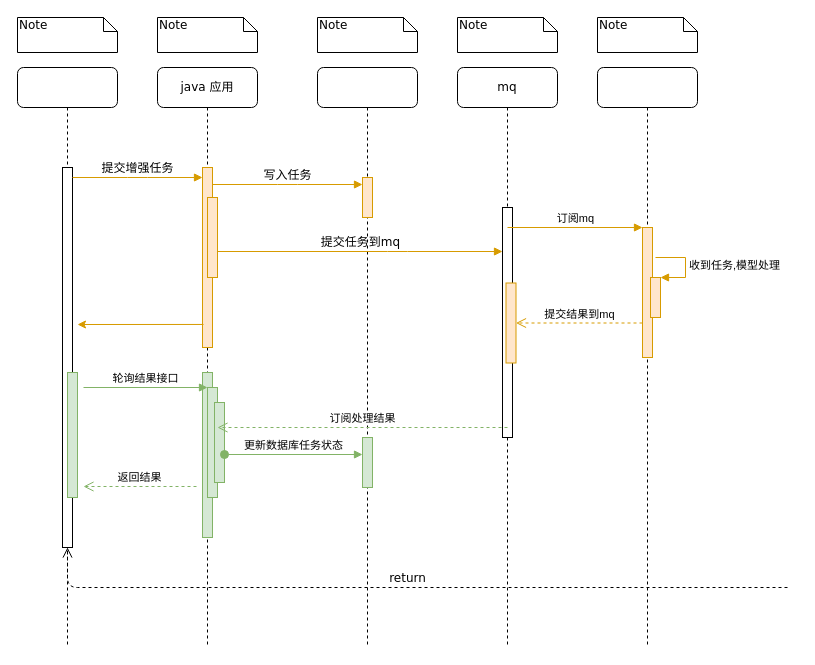
The diagram is 815 pixels wide and 665 high, and some of its shapes have lost their labels. Each missing label, with the box of its shape:
app: (16, 66, 118, 648)
mysql: (316, 66, 418, 648)
python服务: (596, 66, 698, 648)
